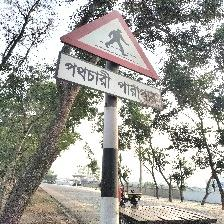Pedestrian-crossing: (56, 9, 164, 109)
